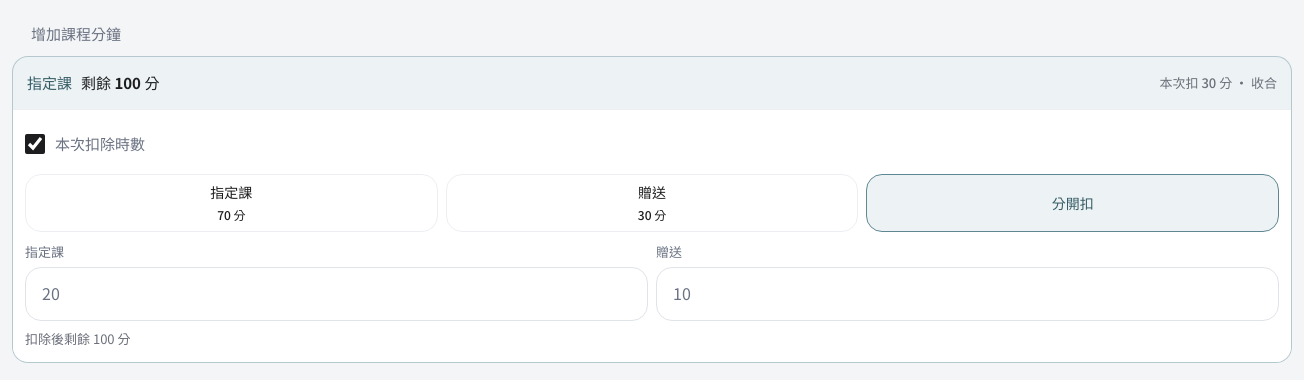
Test: CoachDesignatedDeductionControl balance preview › restores both regular and gift deductions before previewing a split edit
Expected: the text "扣除後剩餘 100 分" is shown, left=25, top=329, right=130, bottom=348
Replace the text in the field named "指定課扣除分鐘" with "15" at coordinates (336, 294), box left=25, top=267, right=648, bottom=321
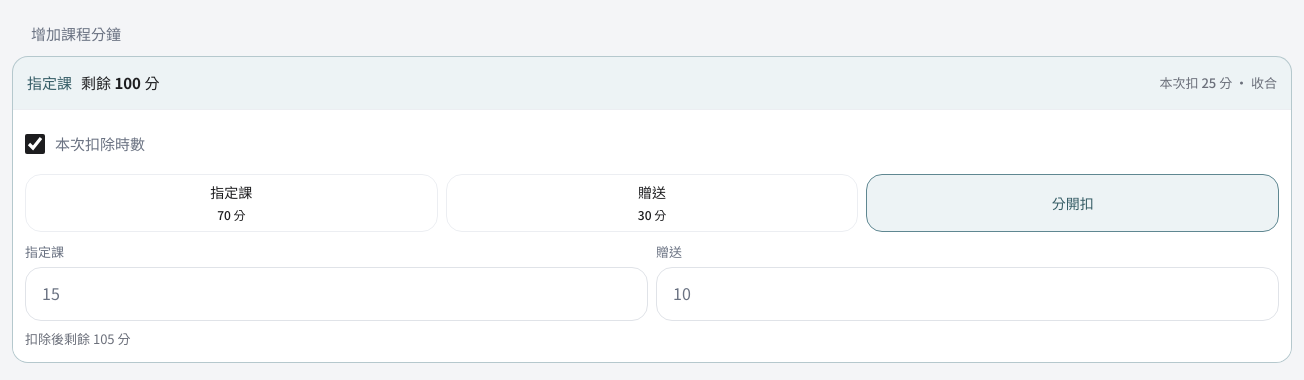
Replace the text in the field named "贈送指定課扣除分鐘" with "5" at coordinates (968, 294), box left=656, top=267, right=1279, bottom=321
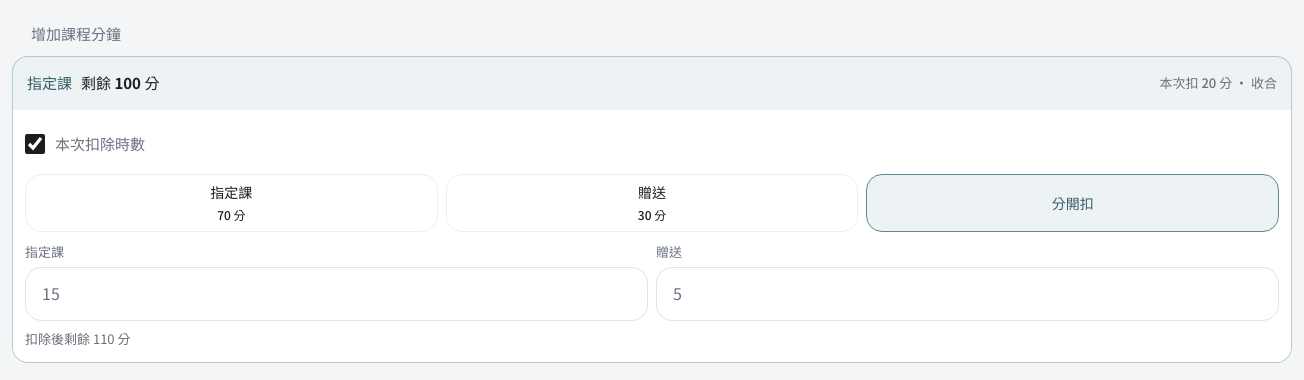
Expected: the text "扣除後剩餘 110 分" is shown, left=25, top=329, right=130, bottom=348
